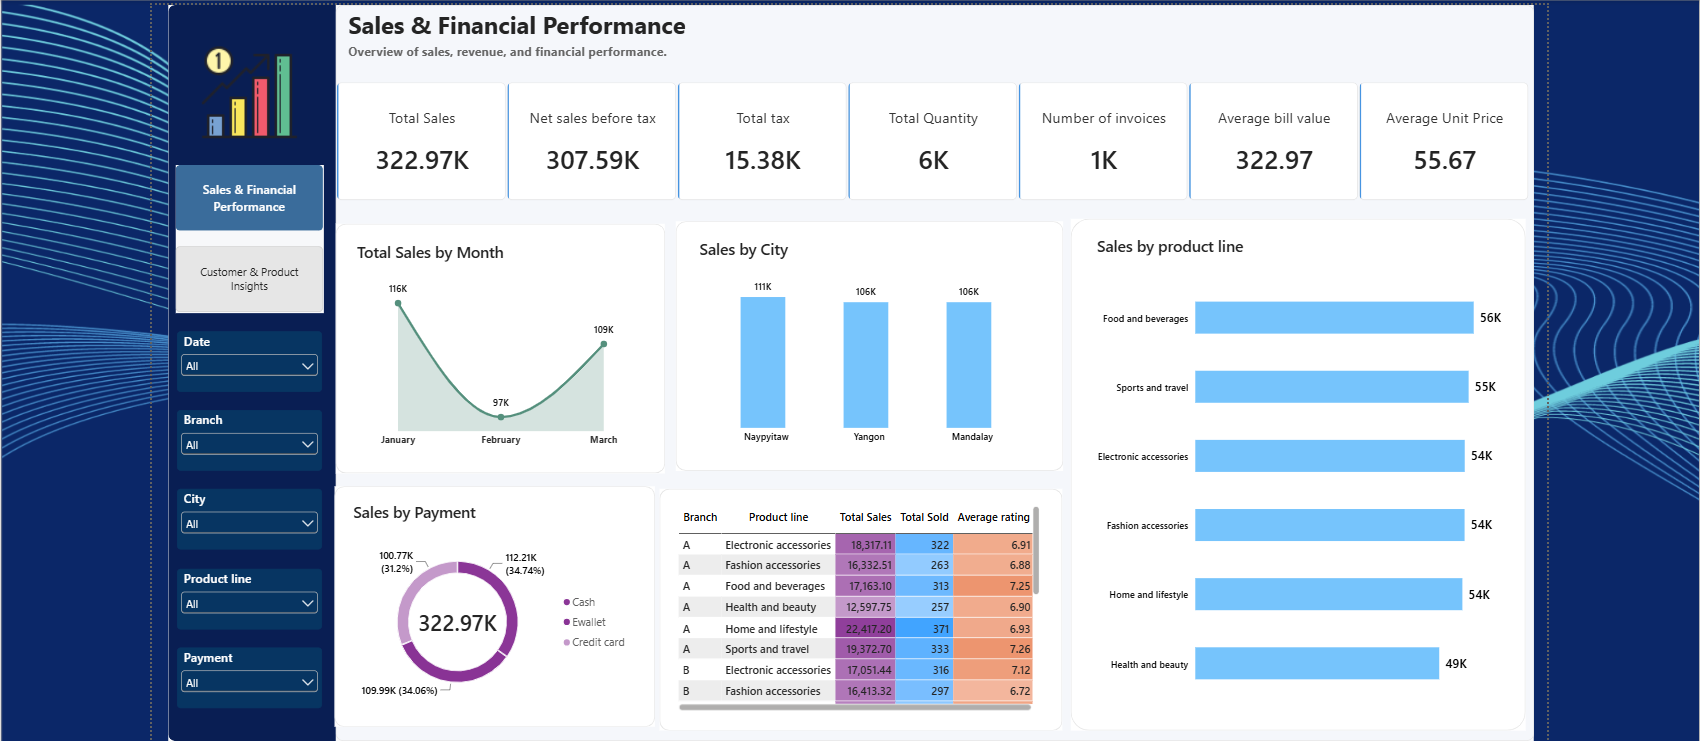

What the dashboard file says about the page in this screenshot:
{"tool":"powerbi","page":{"name":"Sales & Financial Performance","canvas":[1800,950],"ordinal":0},"visuals":[{"type":"shape","box":[21.3,0,279.6,950],"z":0},{"type":"shape","box":[236.7,0,1546.8,950],"z":1000},{"type":"cardVisual","fields":{"Data":["supermarket.Total Sales","supermarket.Net sales before tax","supermarket.Total tax","supermarket.Total quantity sold","supermarket.Number of invoices","supermarket.Average bill value","supermarket.Average Unit Price"]},"box":[236.7,98,1546.8,155.5],"z":2000},{"type":"shape","box":[237.1,282.9,425.1,322.1],"z":3000},{"type":"areaChart","title":"Total Sales by Month","fields":{"Category":["supermarket.Date.Variation.Date Hierarchy.Month"],"Y":["supermarket.Total Sales"]},"box":[248.5,291.1,403.9,299.2],"z":4000},{"type":"shape","box":[675.3,279.6,500.4,322.1],"z":5000},{"type":"columnChart","title":"Sales by City","fields":{"Category":["supermarket.City"],"Y":["supermarket.Total Sales"]},"box":[690,287.8,470.7,299.2],"z":6000},{"type":"shape","box":[1185.5,276.3,587,660.6],"z":7000},{"type":"barChart","title":"Sales by product line","fields":{"Category":["supermarket.Product line"],"Y":["supermarket.Total Sales"]},"box":[1203.5,282.9,554.3,642.6],"z":8000},{"type":"shape","box":[235.5,621.4,413.7,310.7],"z":9000},{"type":"donutChart","title":"Sales by Payment","fields":{"Category":["supermarket.Payment"],"Y":["supermarket.Total Sales"]},"box":[243.6,626.3,392.4,299.2],"z":10000},{"type":"shape","box":[655.7,624.6,520,312.3],"z":11000},{"type":"tableEx","title":"Total Sales by Month","fields":{"Values":["supermarket.Branch","supermarket.Product line","supermarket.Total Sales","supermarket.Total quantity sold","supermarket.Average rating"]},"box":[663.9,632.8,498.7,294.3],"z":12000},{"type":"slicer","fields":{"Values":["supermarket.Date"]},"box":[32.9,420.5,187.4,78.5],"z":13000},{"type":"slicer","fields":{"Values":["supermarket.Branch"]},"box":[32.9,522.6,187.4,78.5],"z":14000},{"type":"slicer","fields":{"Values":["supermarket.City"]},"box":[32.9,624.8,187.4,78.5],"z":15000},{"type":"slicer","fields":{"Values":["supermarket.Product line"]},"box":[32.9,726.9,187.4,78.5],"z":16000},{"type":"slicer","fields":{"Values":["supermarket.Payment"]},"box":[32.9,829.1,187.4,78.5],"z":17000},{"type":"cardVisual","fields":{"Data":["supermarket.Dahboard Title"]},"box":[237.1,0,493.8,76.9],"z":18000},{"type":"image","box":[32.1,35.5,187.4,162.1],"z":19000},{"type":"pageNavigator","box":[31.2,206,190.8,190.8],"z":20000}]}

Visuals, with their boxes on the page's 1800x950 design canvas (x1, y1, x2, y2). These are canvas units, not pixel positions in the 1700x741 screenshot, which may show the page scaled, cropped or inside an application window:
shape: Rect(21, 0, 301, 950)
shape: Rect(237, 0, 1784, 950)
cardVisual - supermarket.Total Sales x supermarket.Net sales before tax: Rect(237, 98, 1784, 254)
shape: Rect(237, 283, 662, 605)
"Total Sales by Month" areaChart: Rect(248, 291, 652, 590)
shape: Rect(675, 280, 1176, 602)
"Sales by City" columnChart: Rect(690, 288, 1161, 587)
shape: Rect(1186, 276, 1772, 937)
"Sales by product line" barChart: Rect(1204, 283, 1758, 926)
shape: Rect(236, 621, 649, 932)
"Sales by Payment" donutChart: Rect(244, 626, 636, 926)
shape: Rect(656, 625, 1176, 937)
"Total Sales by Month" tableEx: Rect(664, 633, 1163, 927)
slicer - supermarket.Date: Rect(33, 420, 220, 499)
slicer - supermarket.Branch: Rect(33, 523, 220, 601)
slicer - supermarket.City: Rect(33, 625, 220, 703)
slicer - supermarket.Product line: Rect(33, 727, 220, 805)
slicer - supermarket.Payment: Rect(33, 829, 220, 908)
cardVisual - supermarket.Dahboard Title: Rect(237, 0, 731, 77)
image: Rect(32, 36, 220, 198)
pageNavigator: Rect(31, 206, 222, 397)
